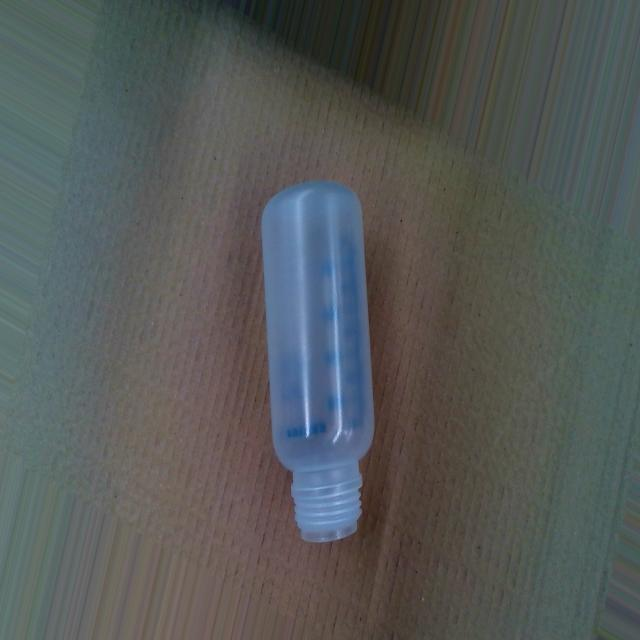bottle: (256, 170, 382, 551)
